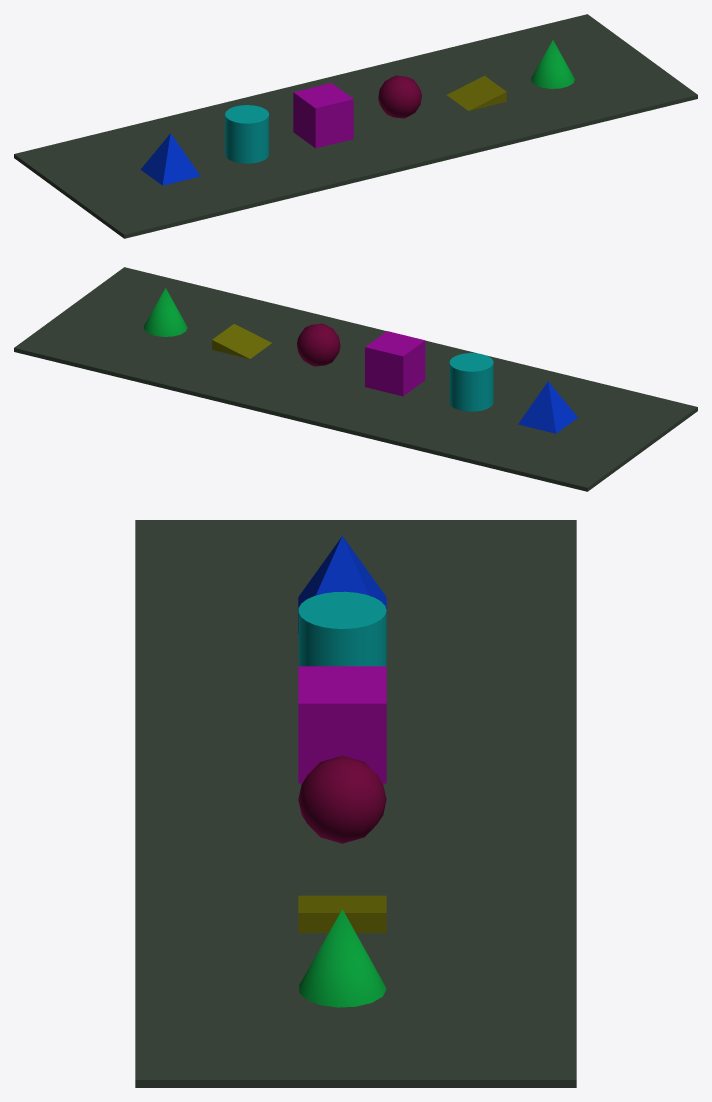
Rendered from Primitives.dae.
3 renders of one model, top to bottom at view 1: azimuth 30°, elevation 25°; view 2: azimuth 150°, elevation 25°; view 3: azimuth 270°, elevation 25°, orthographic. The views are drawn at different scales.
Parts seen in each view (by area): view 1: Ground, POBox, POCylinder, POPyramid, POSphere, POWedge, POCone; view 2: Ground, POBox, POCylinder, POPyramid, POSphere, POWedge, POCone; view 3: Ground, POBox, POCylinder, POSphere, POCone, POWedge, POPyramid.
Part boxes in pixels (x1,y1,x2,y2): Ground: (14,14,697,238); POBox: (293,83,353,148); POCylinder: (225,105,268,163); POPyramid: (140,133,200,185); POSphere: (378,75,421,118); POWedge: (447,75,506,110); POCone: (531,40,574,88); Ground: (14,267,697,491); POBox: (365,331,425,396); POCylinder: (449,353,493,411); POPyramid: (518,381,577,433); POSphere: (297,323,340,366); POWedge: (212,324,271,358); POCone: (144,288,187,336); Ground: (135,520,576,1087); POBox: (298,666,386,783); POCylinder: (298,591,386,666); POSphere: (298,755,386,843); POCone: (299,909,386,1007); POWedge: (298,895,386,932); POPyramid: (298,536,386,633).
Size of the model in its own units: 15 by 1.1 by 5.
